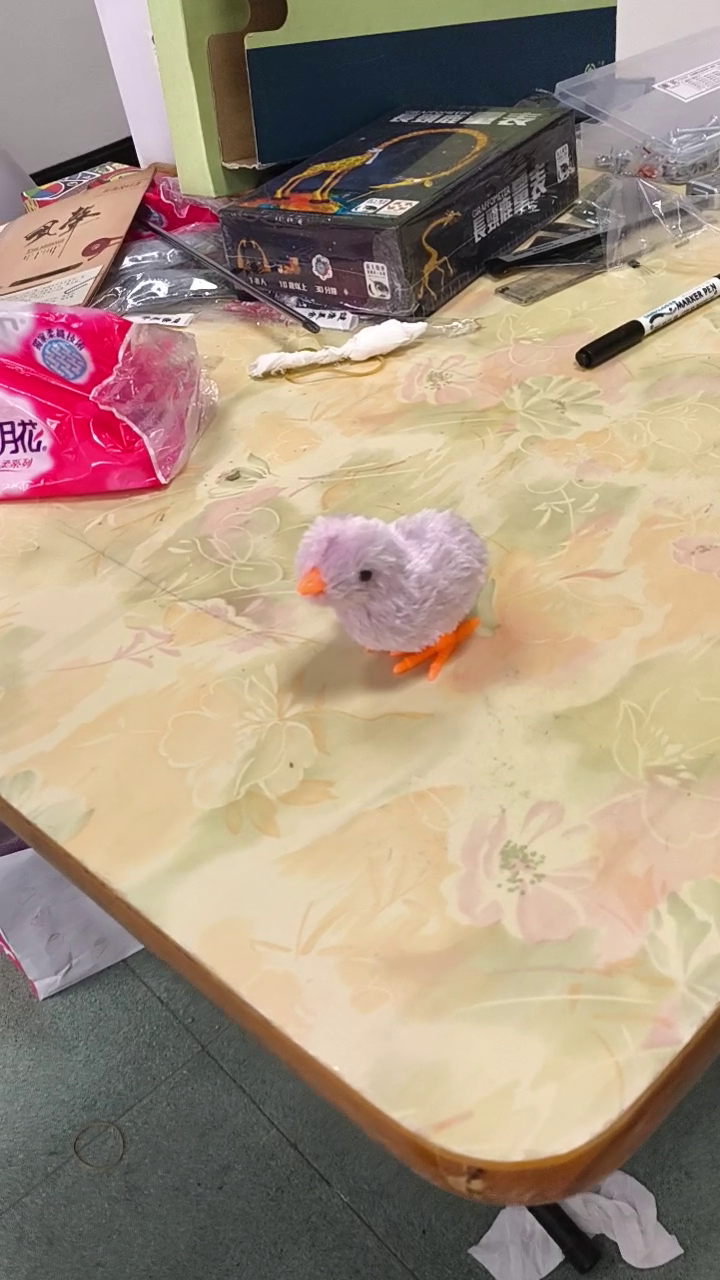pink chicken: (292, 506, 497, 684)
